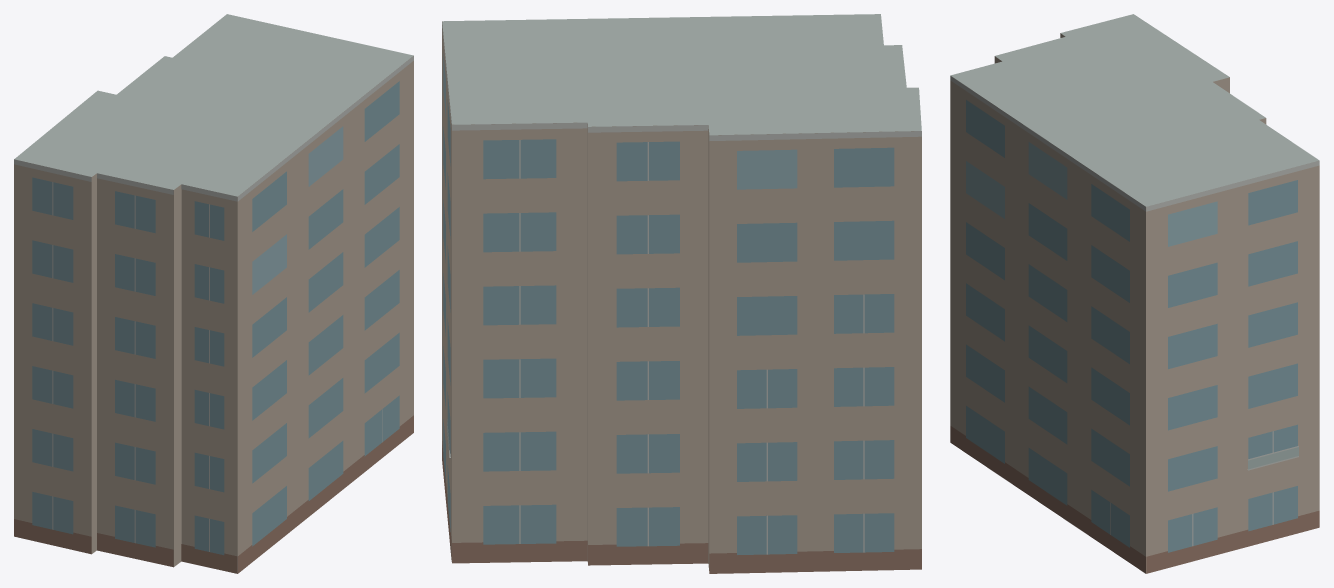
The model's file is survey-upis-32996817.glb.
3 renders of one model, left to right at view 1: azimuth 30°, elevation 25°; view 2: azimuth 150°, elevation 25°; view 3: azimuth 270°, elevation 25°, orthographic. The views are drawn at different scales.
Visible parts, largest first — view 1: survey-upis-32996817.tmp; view 2: survey-upis-32996817.tmp; view 3: survey-upis-32996817.tmp.
Boxes of the visible parts, x1,y1,x2,y2 form: survey-upis-32996817.tmp: [14, 14, 413, 573]; survey-upis-32996817.tmp: [442, 14, 921, 573]; survey-upis-32996817.tmp: [950, 14, 1319, 573].
Size of the model in its own units: 20.63 by 18.3 by 16.7.
